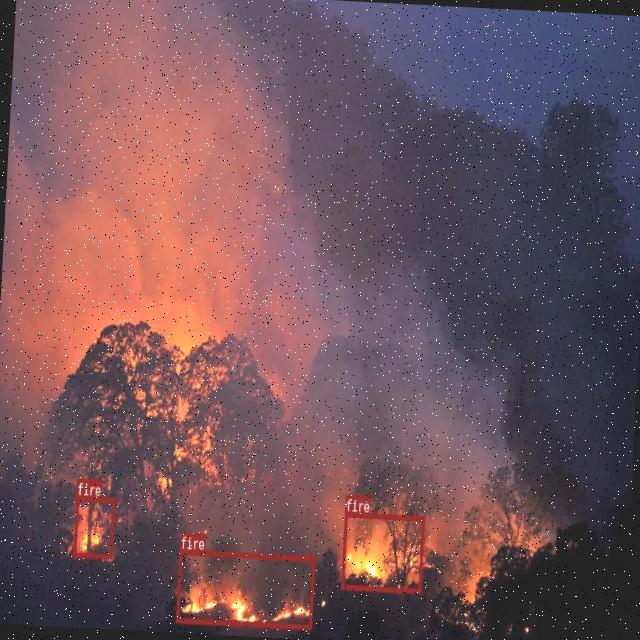fire: (176, 550, 315, 630), (340, 512, 424, 592), (73, 496, 115, 558)
